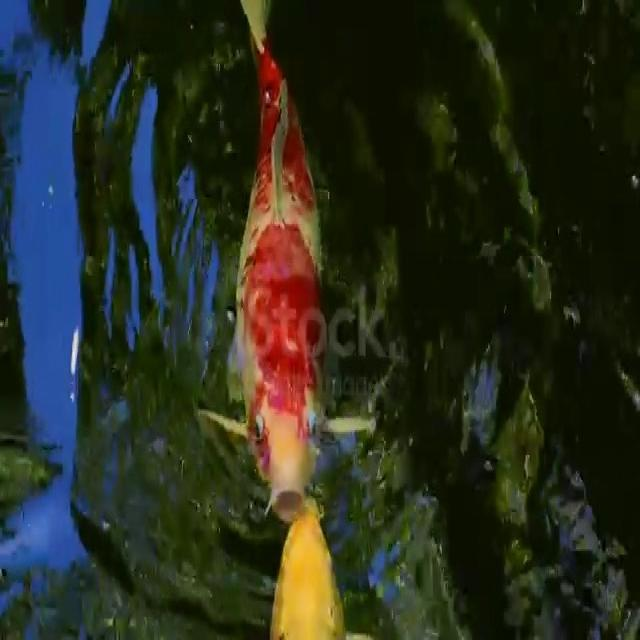fish: (212, 0, 347, 510), (270, 499, 346, 640)
